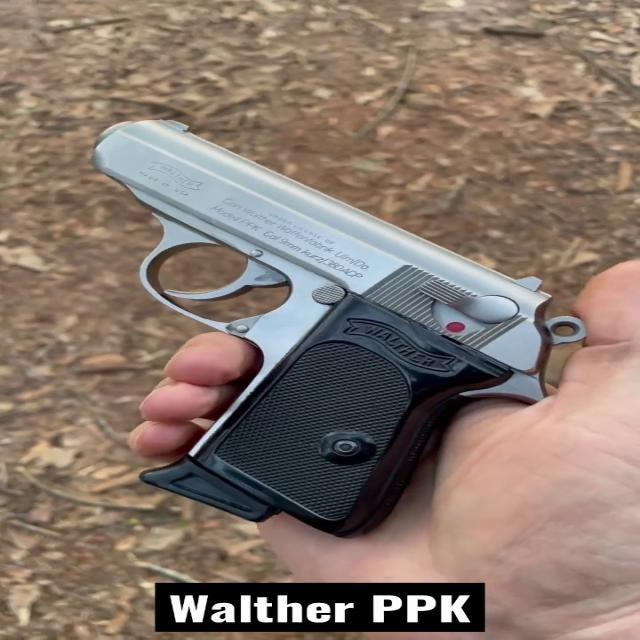Handgun: (62, 113, 580, 542)
